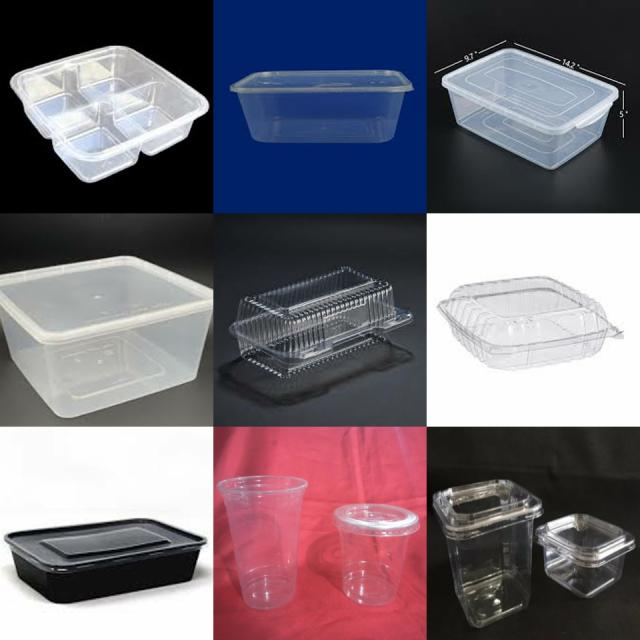Single-Use-Plastic: (0, 256, 212, 418), (10, 46, 209, 182), (442, 48, 619, 169), (230, 266, 412, 376), (438, 278, 622, 369), (5, 519, 206, 602), (432, 480, 542, 628), (230, 71, 412, 144), (218, 475, 308, 609), (331, 504, 419, 606), (535, 514, 635, 597)
